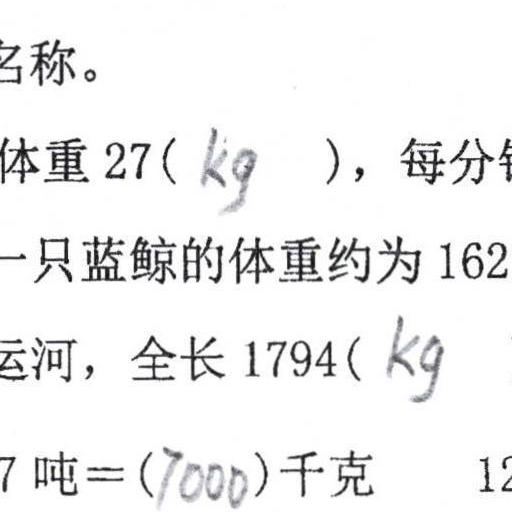ans: (152, 440, 248, 511), (381, 310, 446, 404), (194, 121, 258, 214)
